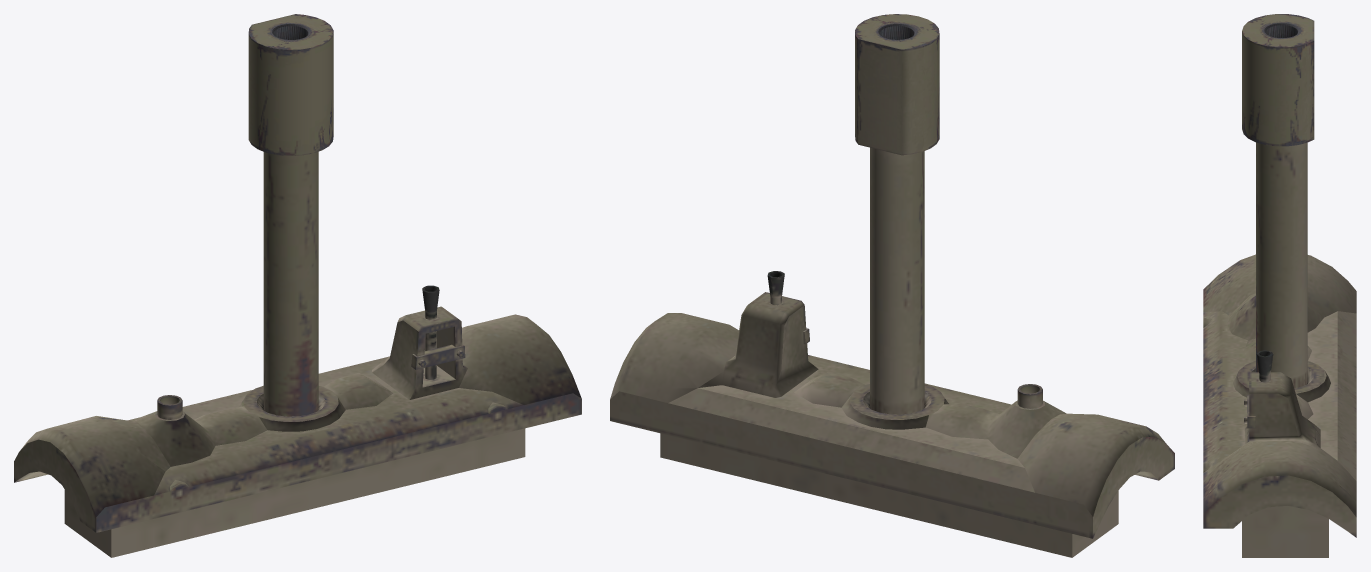
Rendered from Gun_05.glb.
3 renders of one model, left to right at view 1: azimuth 30°, elevation 25°; view 2: azimuth 150°, elevation 25°; view 3: azimuth 270°, elevation 25°, orthographic. The views are drawn at different scales.
Visible parts, largest first — view 1: set_0_group_0; view 2: set_0_group_0; view 3: set_0_group_0.
Part boxes in pixels (box(x1,y1,x2,y2)): set_0_group_0: box(14, 14, 581, 557); set_0_group_0: box(610, 14, 1174, 557); set_0_group_0: box(1203, 14, 1356, 557).
Size of the model in its own units: 1.53 by 1.39 by 0.4497.
Materials: 1 (1 with a texture image).
